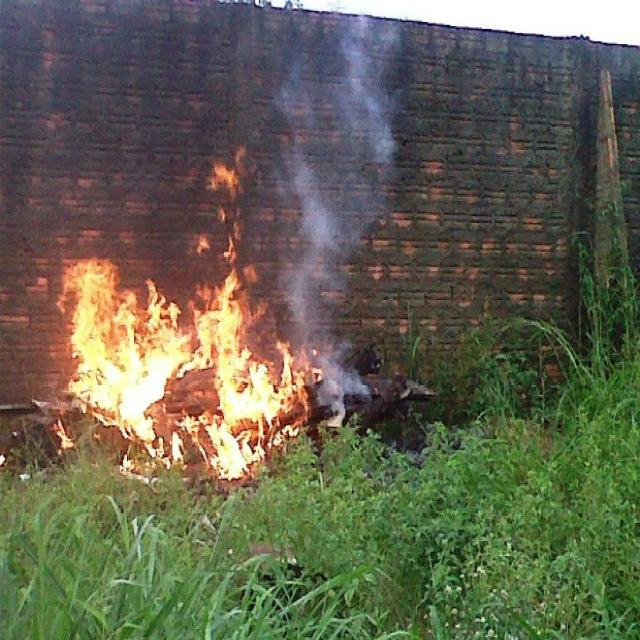fire: (76, 267, 297, 483)
